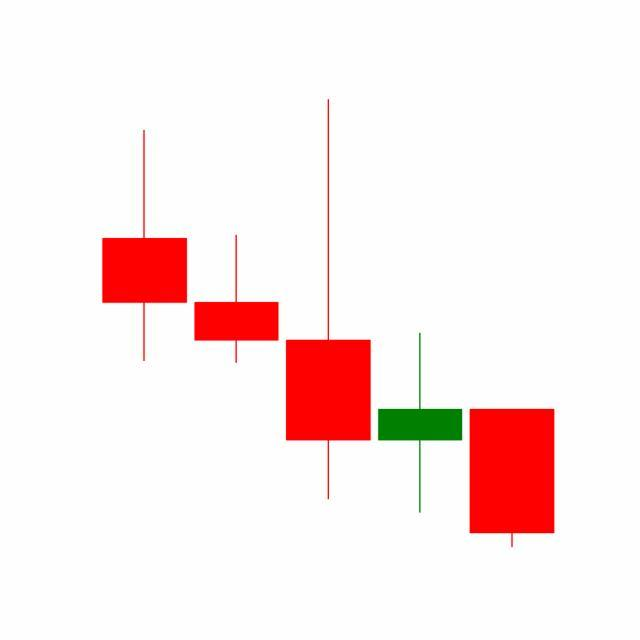Marubozu: (466, 408, 559, 550)
